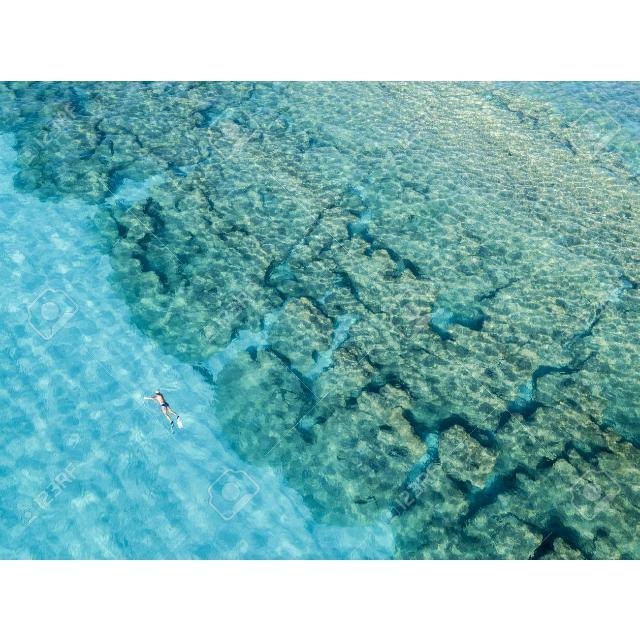human: (143, 390, 181, 432)
